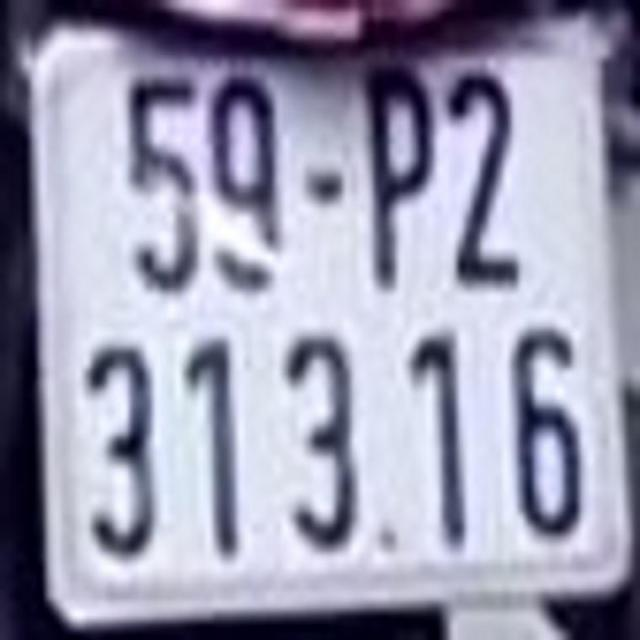1: (405, 323, 478, 544), (182, 339, 253, 560)
2: (449, 72, 531, 290)
3: (282, 333, 365, 554), (84, 345, 160, 561)
5: (126, 75, 203, 296)
6: (510, 324, 592, 538)
9: (212, 77, 286, 296)
P: (365, 72, 422, 291)
